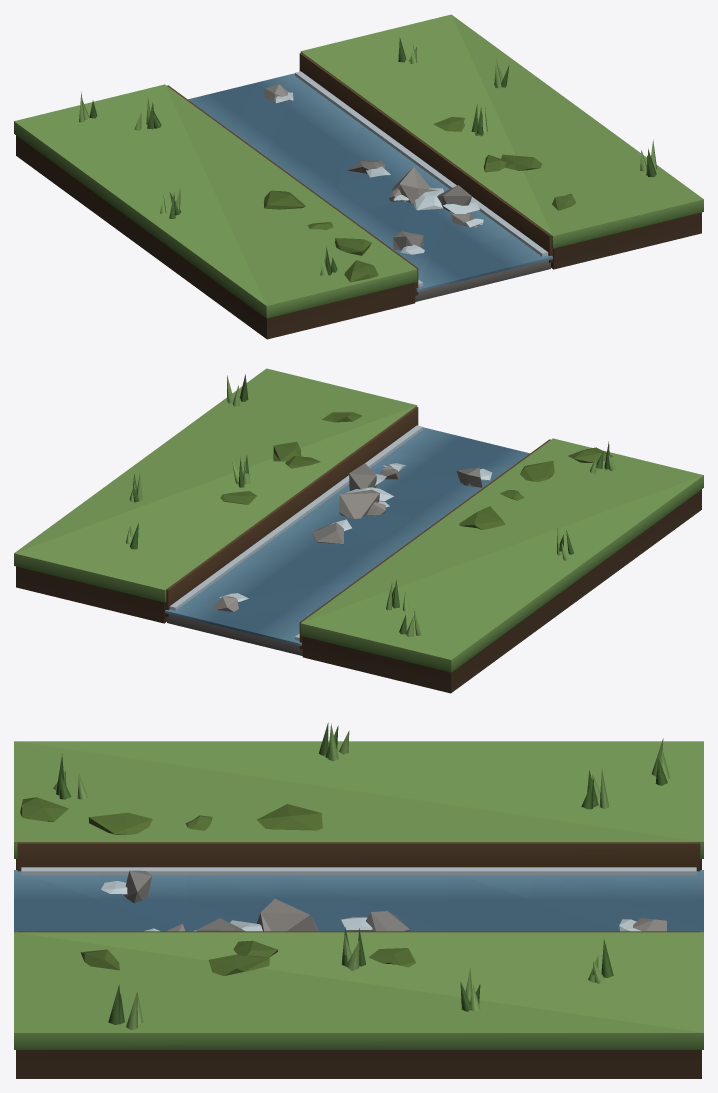
The model's file is stream-beck.glb.
3 views of the same model, one above another, from view 1: azimuth 30°, elevation 25°; view 2: azimuth 150°, elevation 25°; view 3: azimuth 270°, elevation 25° (orthographic). The views are drawn at different scales.
Parts seen in each view (by area): view 1: stream_beck; view 2: stream_beck; view 3: stream_beck.
Boxes of the visible parts, <box> form: stream_beck: <box>14,14,703,339</box>; stream_beck: <box>14,368,703,693</box>; stream_beck: <box>14,722,703,1078</box>.
Bounding box in the file's own units: 4 × 0.6705 × 4.
